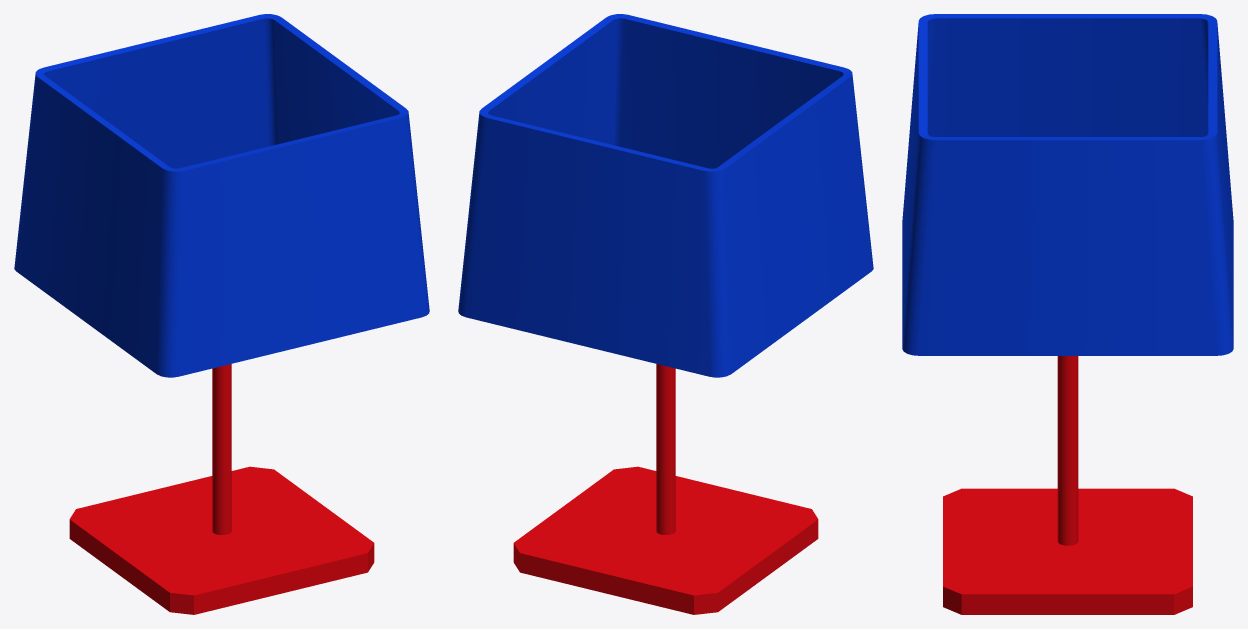
File: lamp02_l.fbx
3 views of the same model, side by side, from view 1: azimuth 30°, elevation 25°; view 2: azimuth 150°, elevation 25°; view 3: azimuth 270°, elevation 25° (orthographic). The views are drawn at different scales.
Parts seen in each view (by area): view 1: Cube.011; view 2: Cube.011; view 3: Cube.011.
Part boxes in pixels (box(x1,y1,x2,y2)): Cube.011: box(14, 14, 429, 614); Cube.011: box(458, 14, 873, 614); Cube.011: box(902, 14, 1233, 614).
Bounding box in the file's own units: 36.38 × 58.74 × 36.38.
